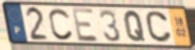2: (25, 5, 49, 43)
3: (99, 8, 122, 44)
C: (144, 10, 173, 44), (48, 7, 75, 42)
E: (70, 7, 100, 43)
Q: (123, 9, 147, 43)
